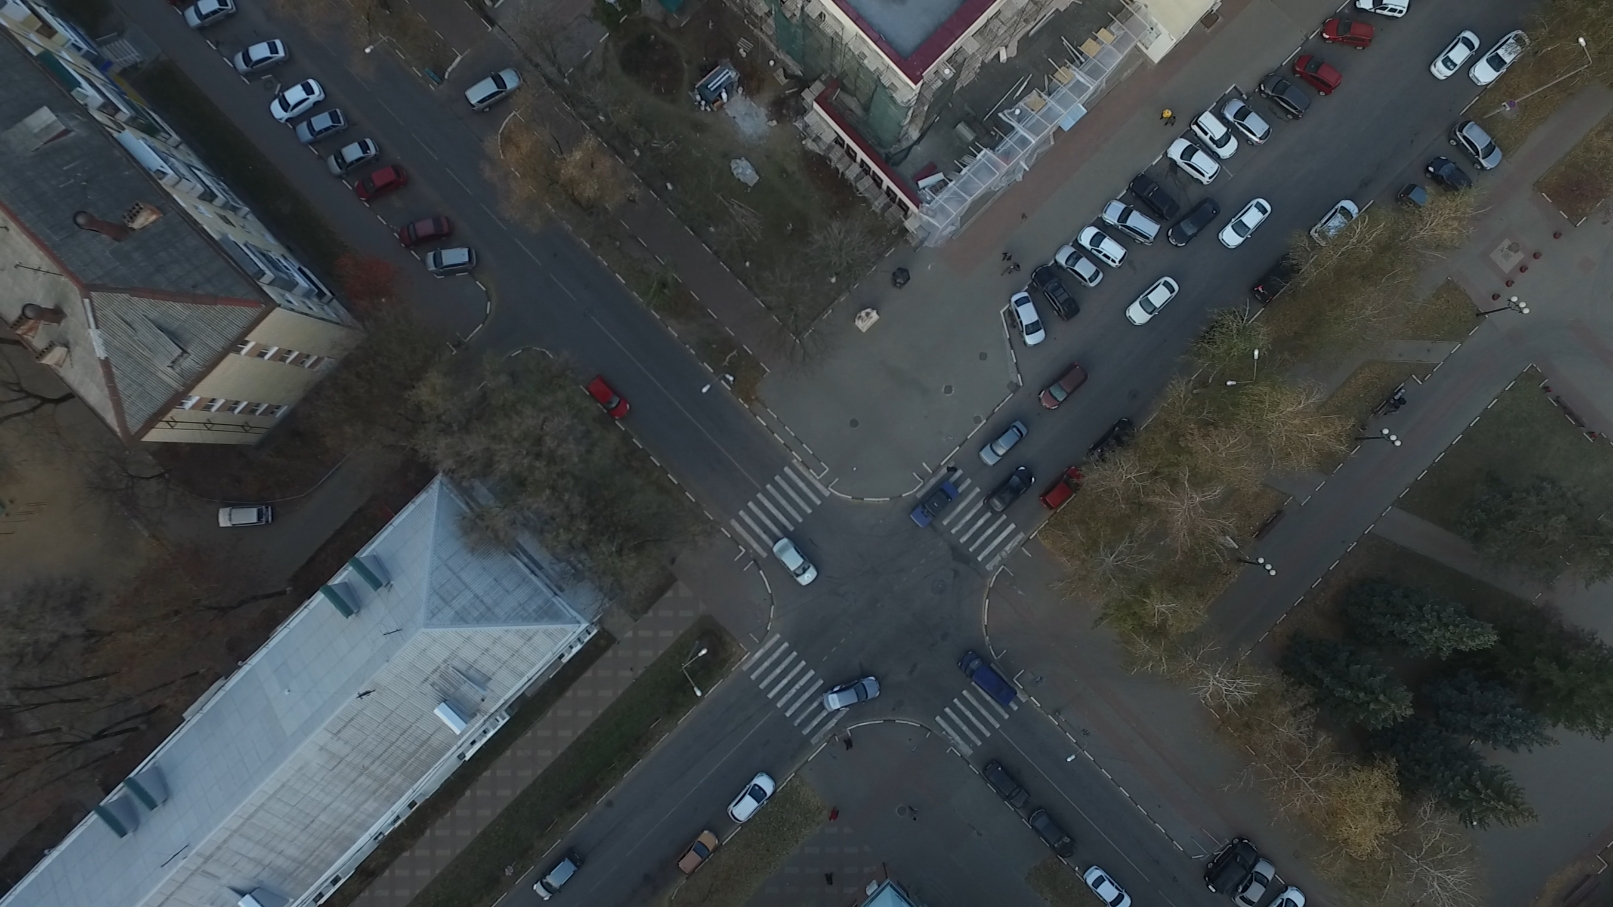car: (1472, 27, 1535, 93), (952, 652, 1019, 707), (1167, 204, 1224, 264), (1225, 198, 1284, 255), (461, 66, 527, 115), (528, 849, 590, 901), (1127, 275, 1183, 330), (1452, 118, 1506, 177), (1225, 97, 1280, 154), (1102, 197, 1162, 248), (905, 483, 960, 537), (1167, 141, 1224, 193), (1201, 837, 1260, 888), (1026, 261, 1077, 320), (727, 769, 777, 828), (1250, 256, 1298, 317), (1052, 241, 1106, 296), (270, 74, 332, 121), (1307, 198, 1358, 255), (982, 471, 1031, 527), (1428, 27, 1480, 80), (1025, 807, 1073, 863), (1085, 418, 1136, 470), (1426, 157, 1475, 212), (978, 418, 1026, 473), (1286, 47, 1342, 94), (1130, 174, 1181, 225), (1191, 115, 1243, 165), (1256, 73, 1308, 123), (984, 757, 1031, 812), (323, 135, 384, 177), (823, 674, 887, 713), (771, 539, 820, 590), (1006, 291, 1049, 347), (1400, 184, 1444, 239), (230, 33, 296, 70), (1039, 365, 1090, 411), (587, 369, 631, 418), (1038, 465, 1082, 514), (297, 107, 353, 145), (353, 163, 411, 199), (1077, 868, 1131, 907), (1076, 220, 1123, 264), (676, 827, 718, 876), (1235, 860, 1277, 907), (399, 215, 458, 245), (1354, 1, 1419, 28), (1321, 16, 1371, 49), (216, 499, 273, 529), (185, 1, 238, 32), (427, 244, 480, 271)
